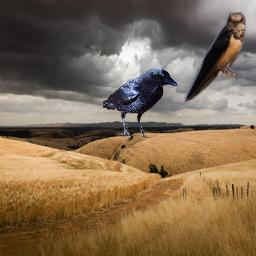Crow: (103, 68, 178, 140)
Swallow: (184, 12, 246, 104)
